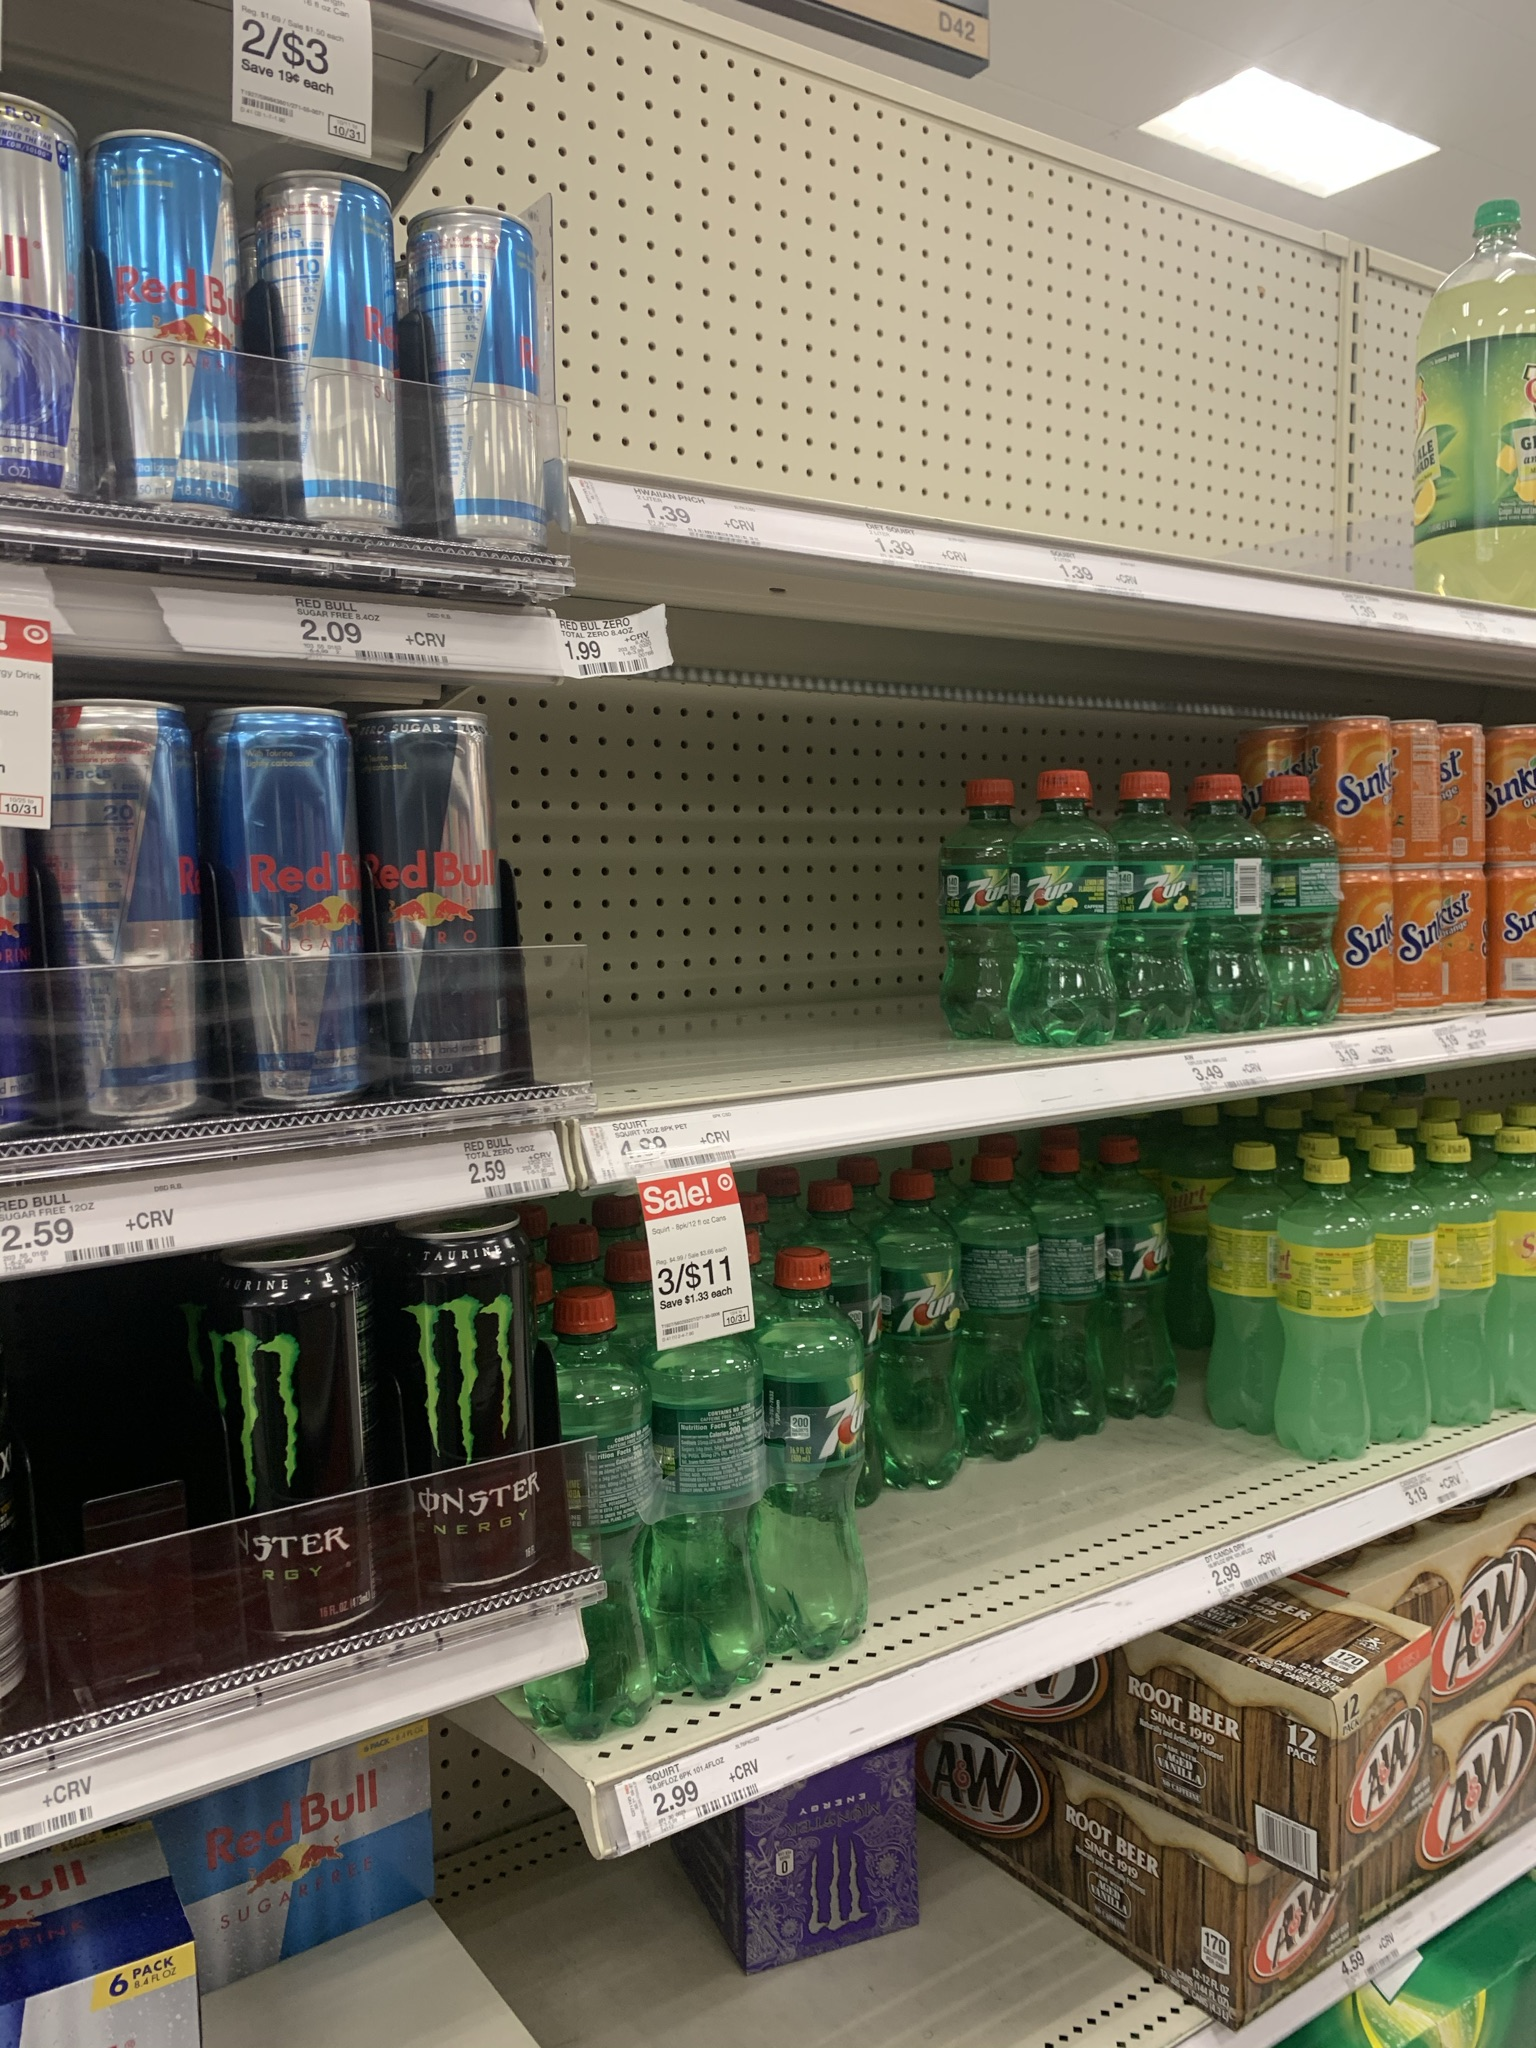7up soda: (565, 1243, 1184, 1587), (949, 779, 1362, 1005)
AW soda: (1142, 1638, 1536, 1921)
monster energy drink: (224, 1261, 549, 1569)
redbull soda: (2, 119, 553, 514), (6, 697, 528, 1056)
